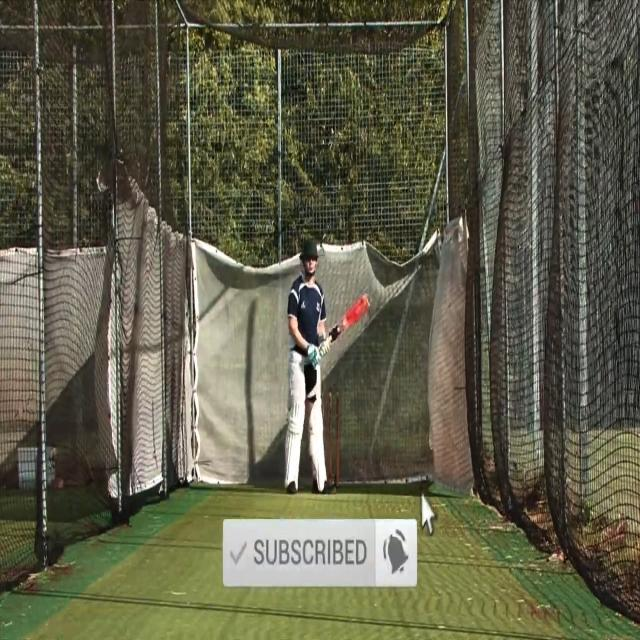batsman: (283, 238, 372, 498)
